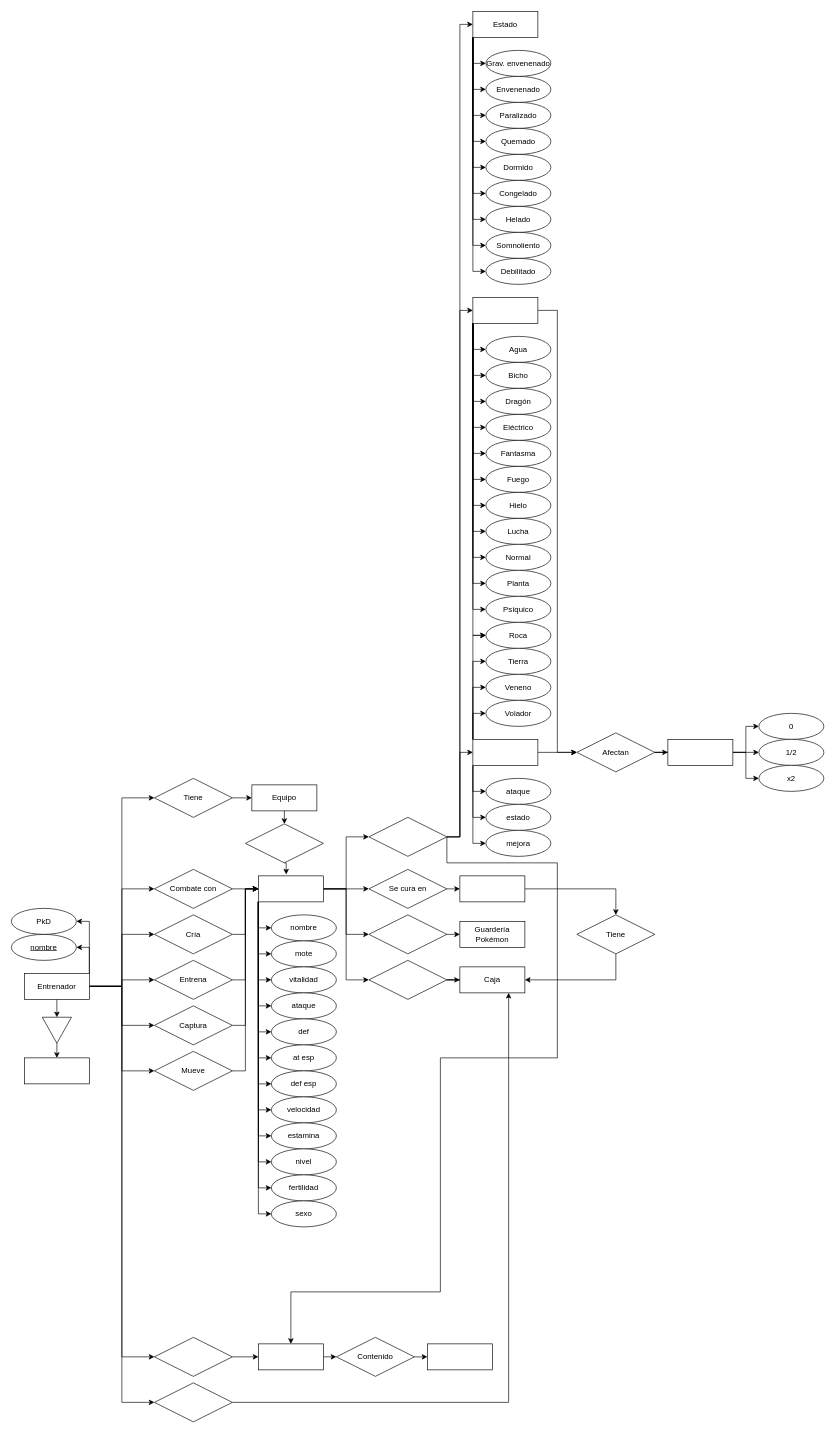
Some shapes in this 835 by 1433 pixel diagram are drawn without their labels. The box of each missing label's shape, as (x1, y1, x2, y2) in pixels:
Centro Pokémon: (459, 875, 525, 902)
Compra/vende: (154, 1337, 232, 1376)
Compuesto por: (245, 823, 323, 863)
Eficacia: (667, 739, 733, 765)
Interactúa: (154, 1382, 232, 1422)
Líder Gimnasio: (24, 1057, 89, 1084)
Movimiento: (472, 739, 538, 765)
Objeto: (258, 1343, 323, 1370)
Pokémon: (258, 875, 323, 902)
Posee: (368, 817, 447, 856)
Se cría en: (368, 914, 447, 954)
Se mete/saca: (368, 960, 447, 999)
Tienda: (427, 1343, 492, 1370)
Tipo: (472, 297, 538, 323)
